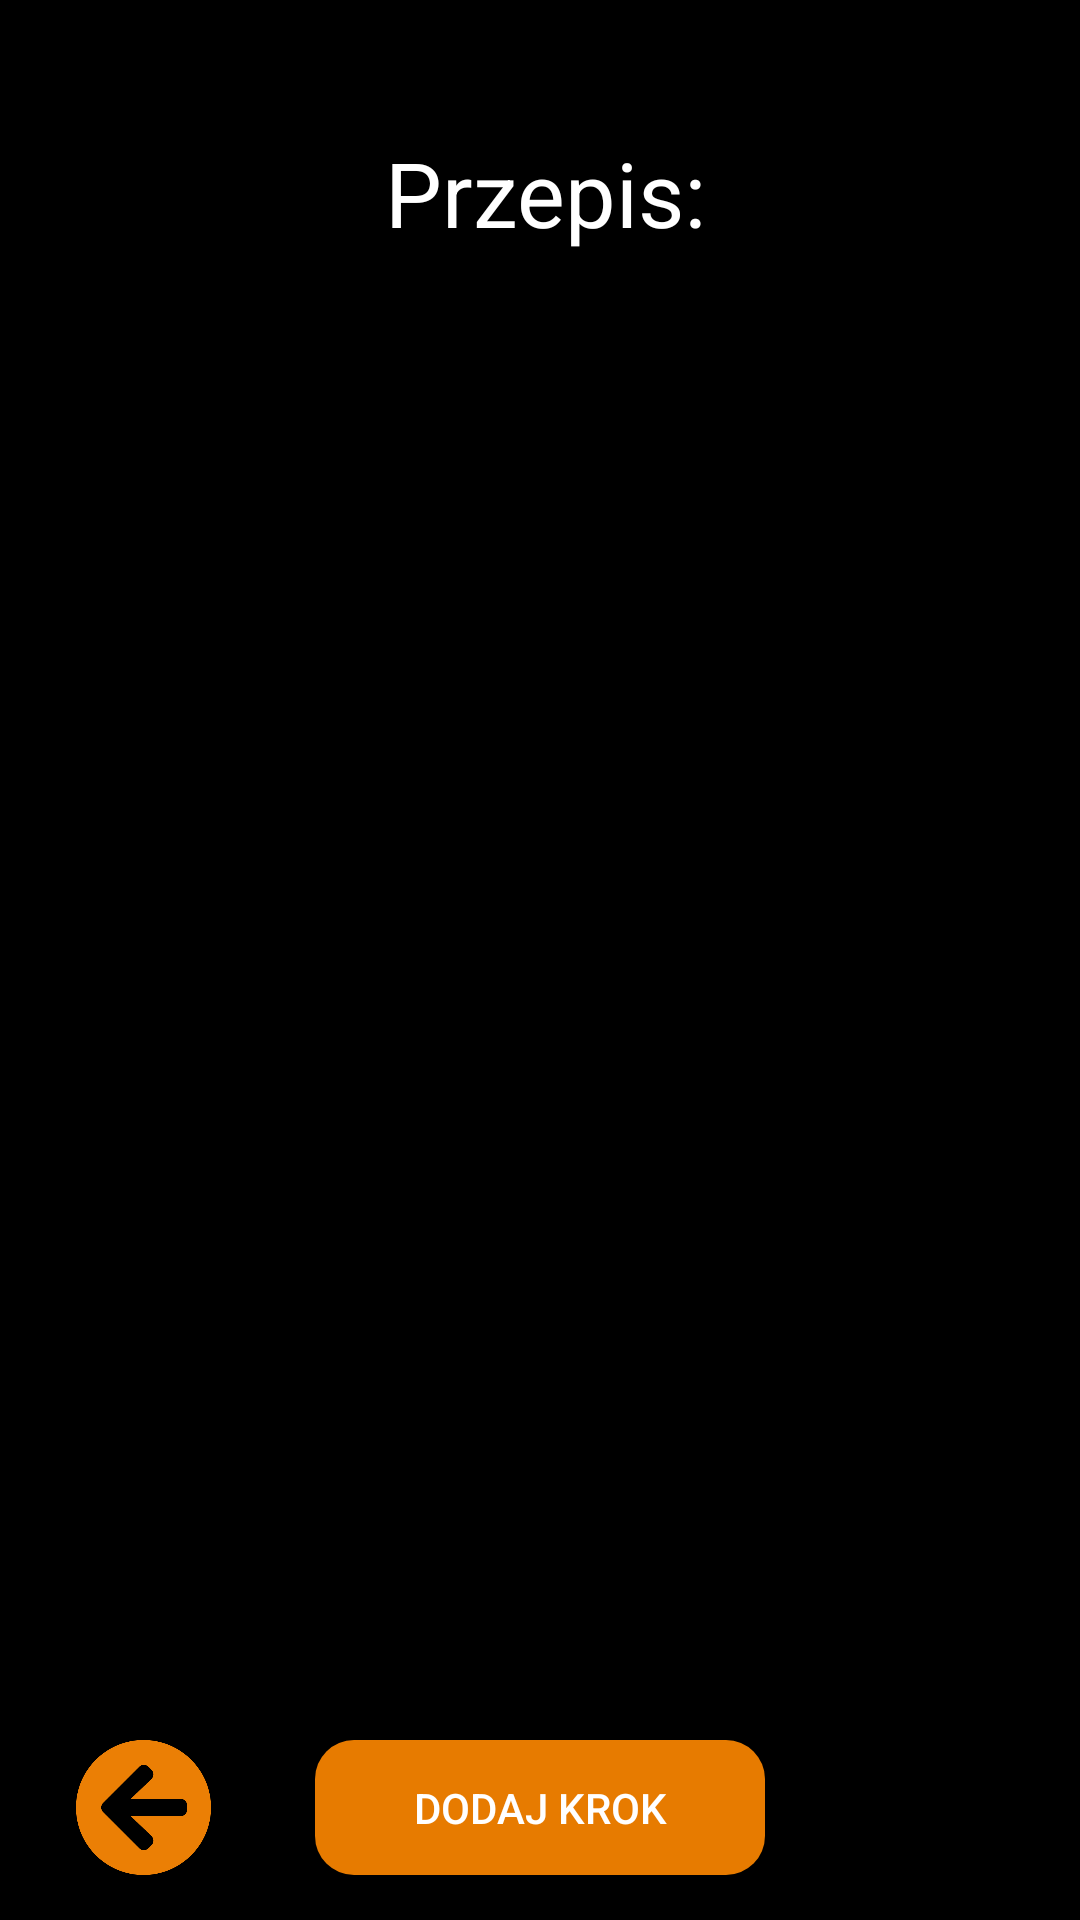

Point at icon controls on the screen. Image size 1080×1920, points as (x,y).
back: (143,1807)
